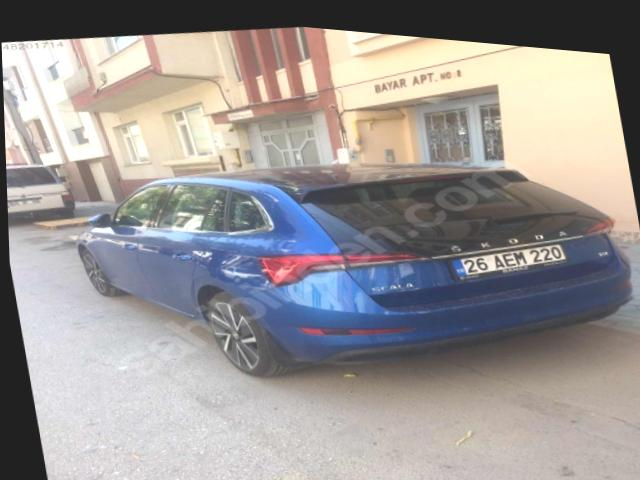plaka: (453, 244, 566, 278)
